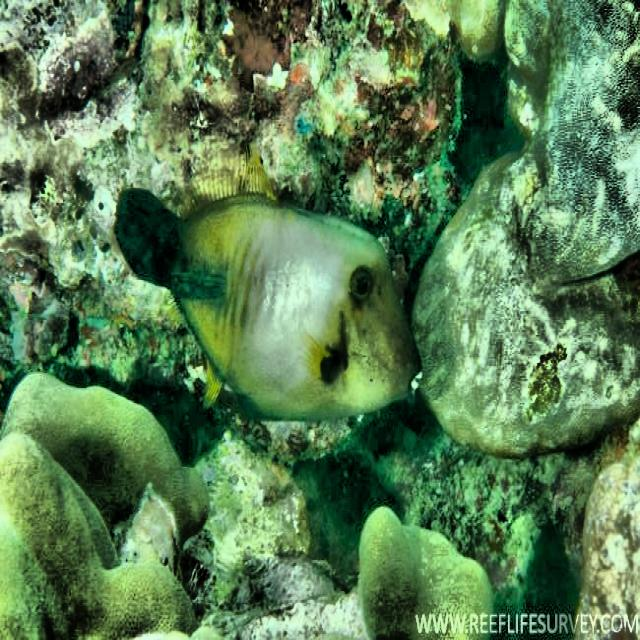fish: (116, 152, 417, 424)
